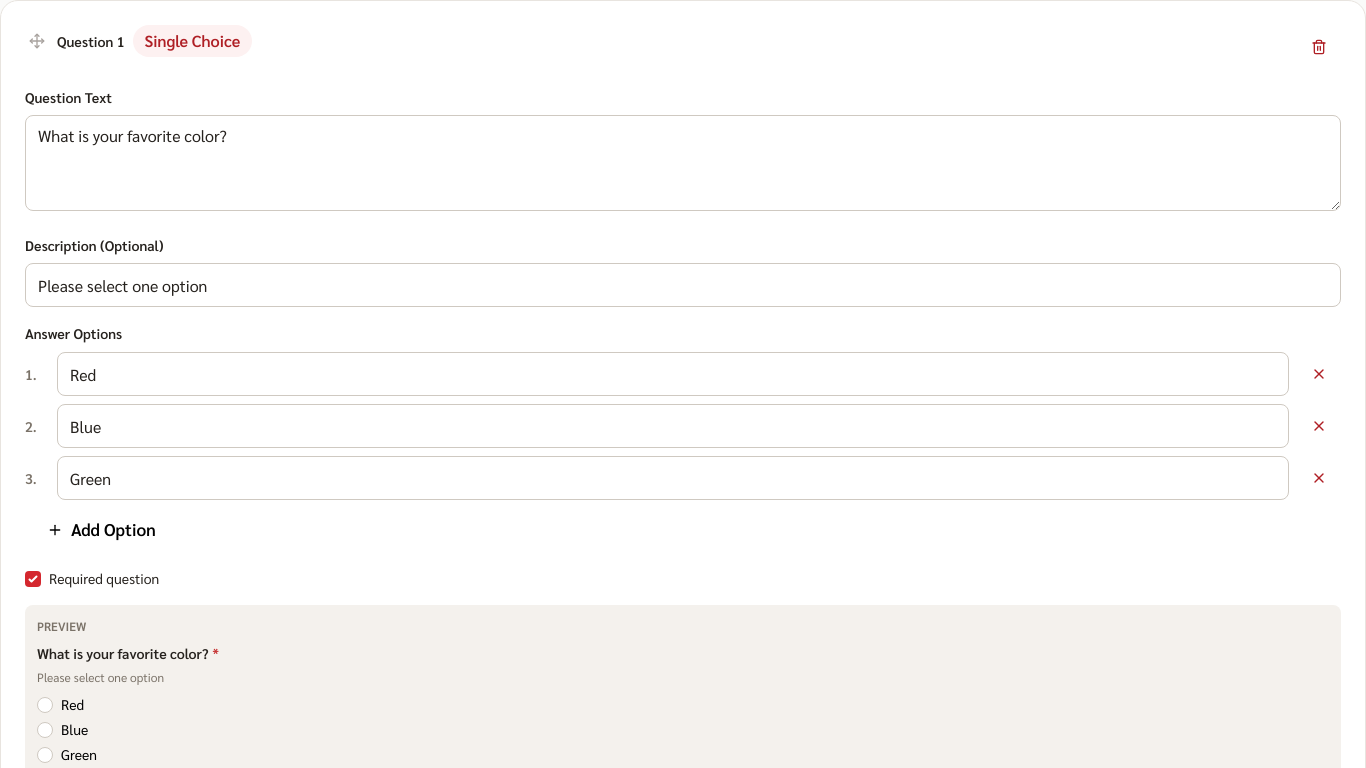
Test: QuestionEditor › Choice Question Options › should update option text when edited
Replace the text in the 1st field showing "Red" with "Purple" at (673, 374), box left=57, top=352, right=1289, bottom=396
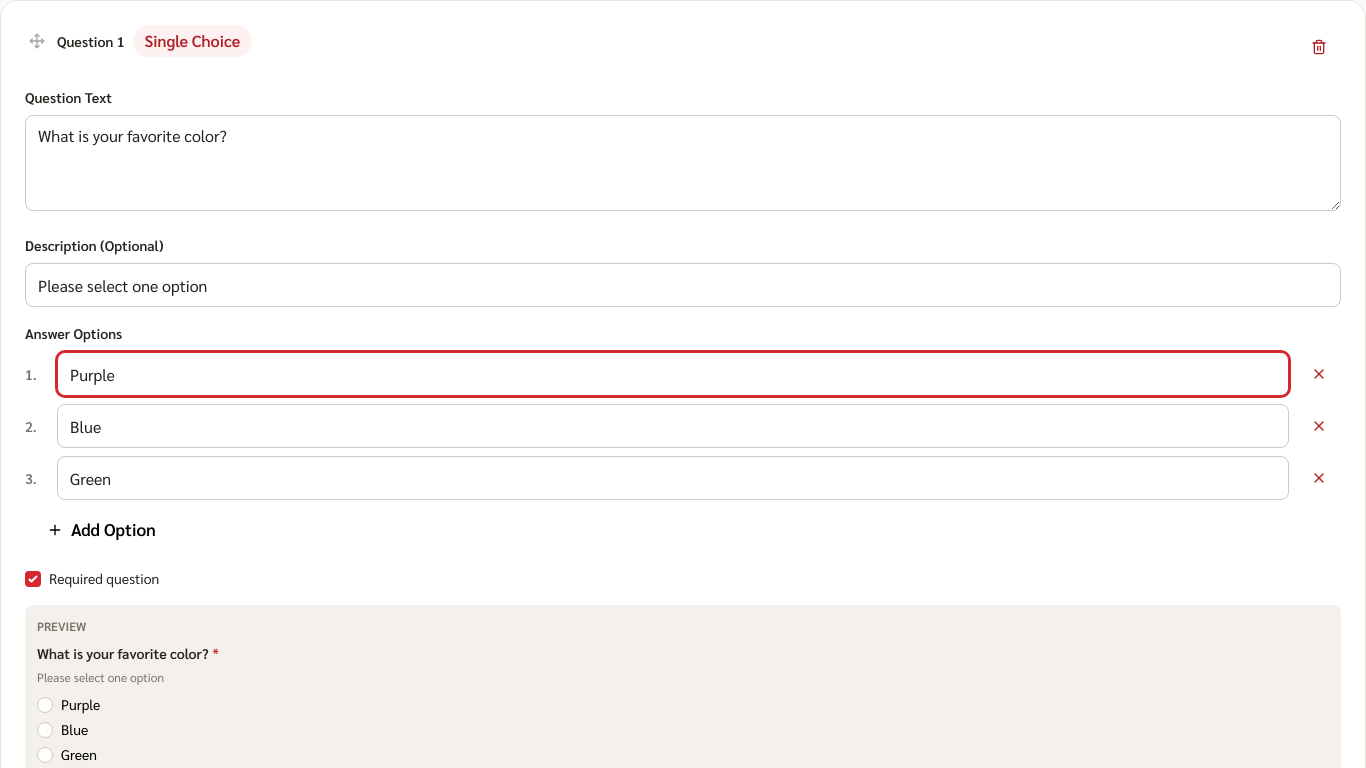
Now the text "Purple" is shown, box left=61, top=694, right=100, bottom=715
